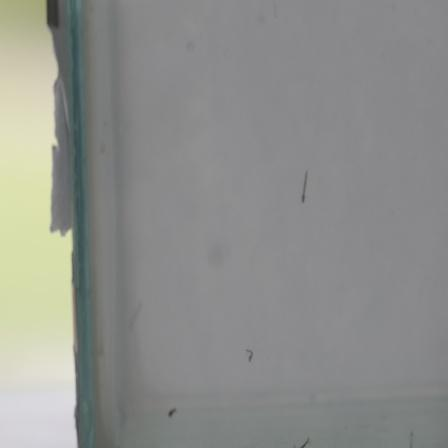Jentik-Nyamuk: (298, 167, 313, 207), (242, 345, 257, 367), (167, 404, 179, 419)
